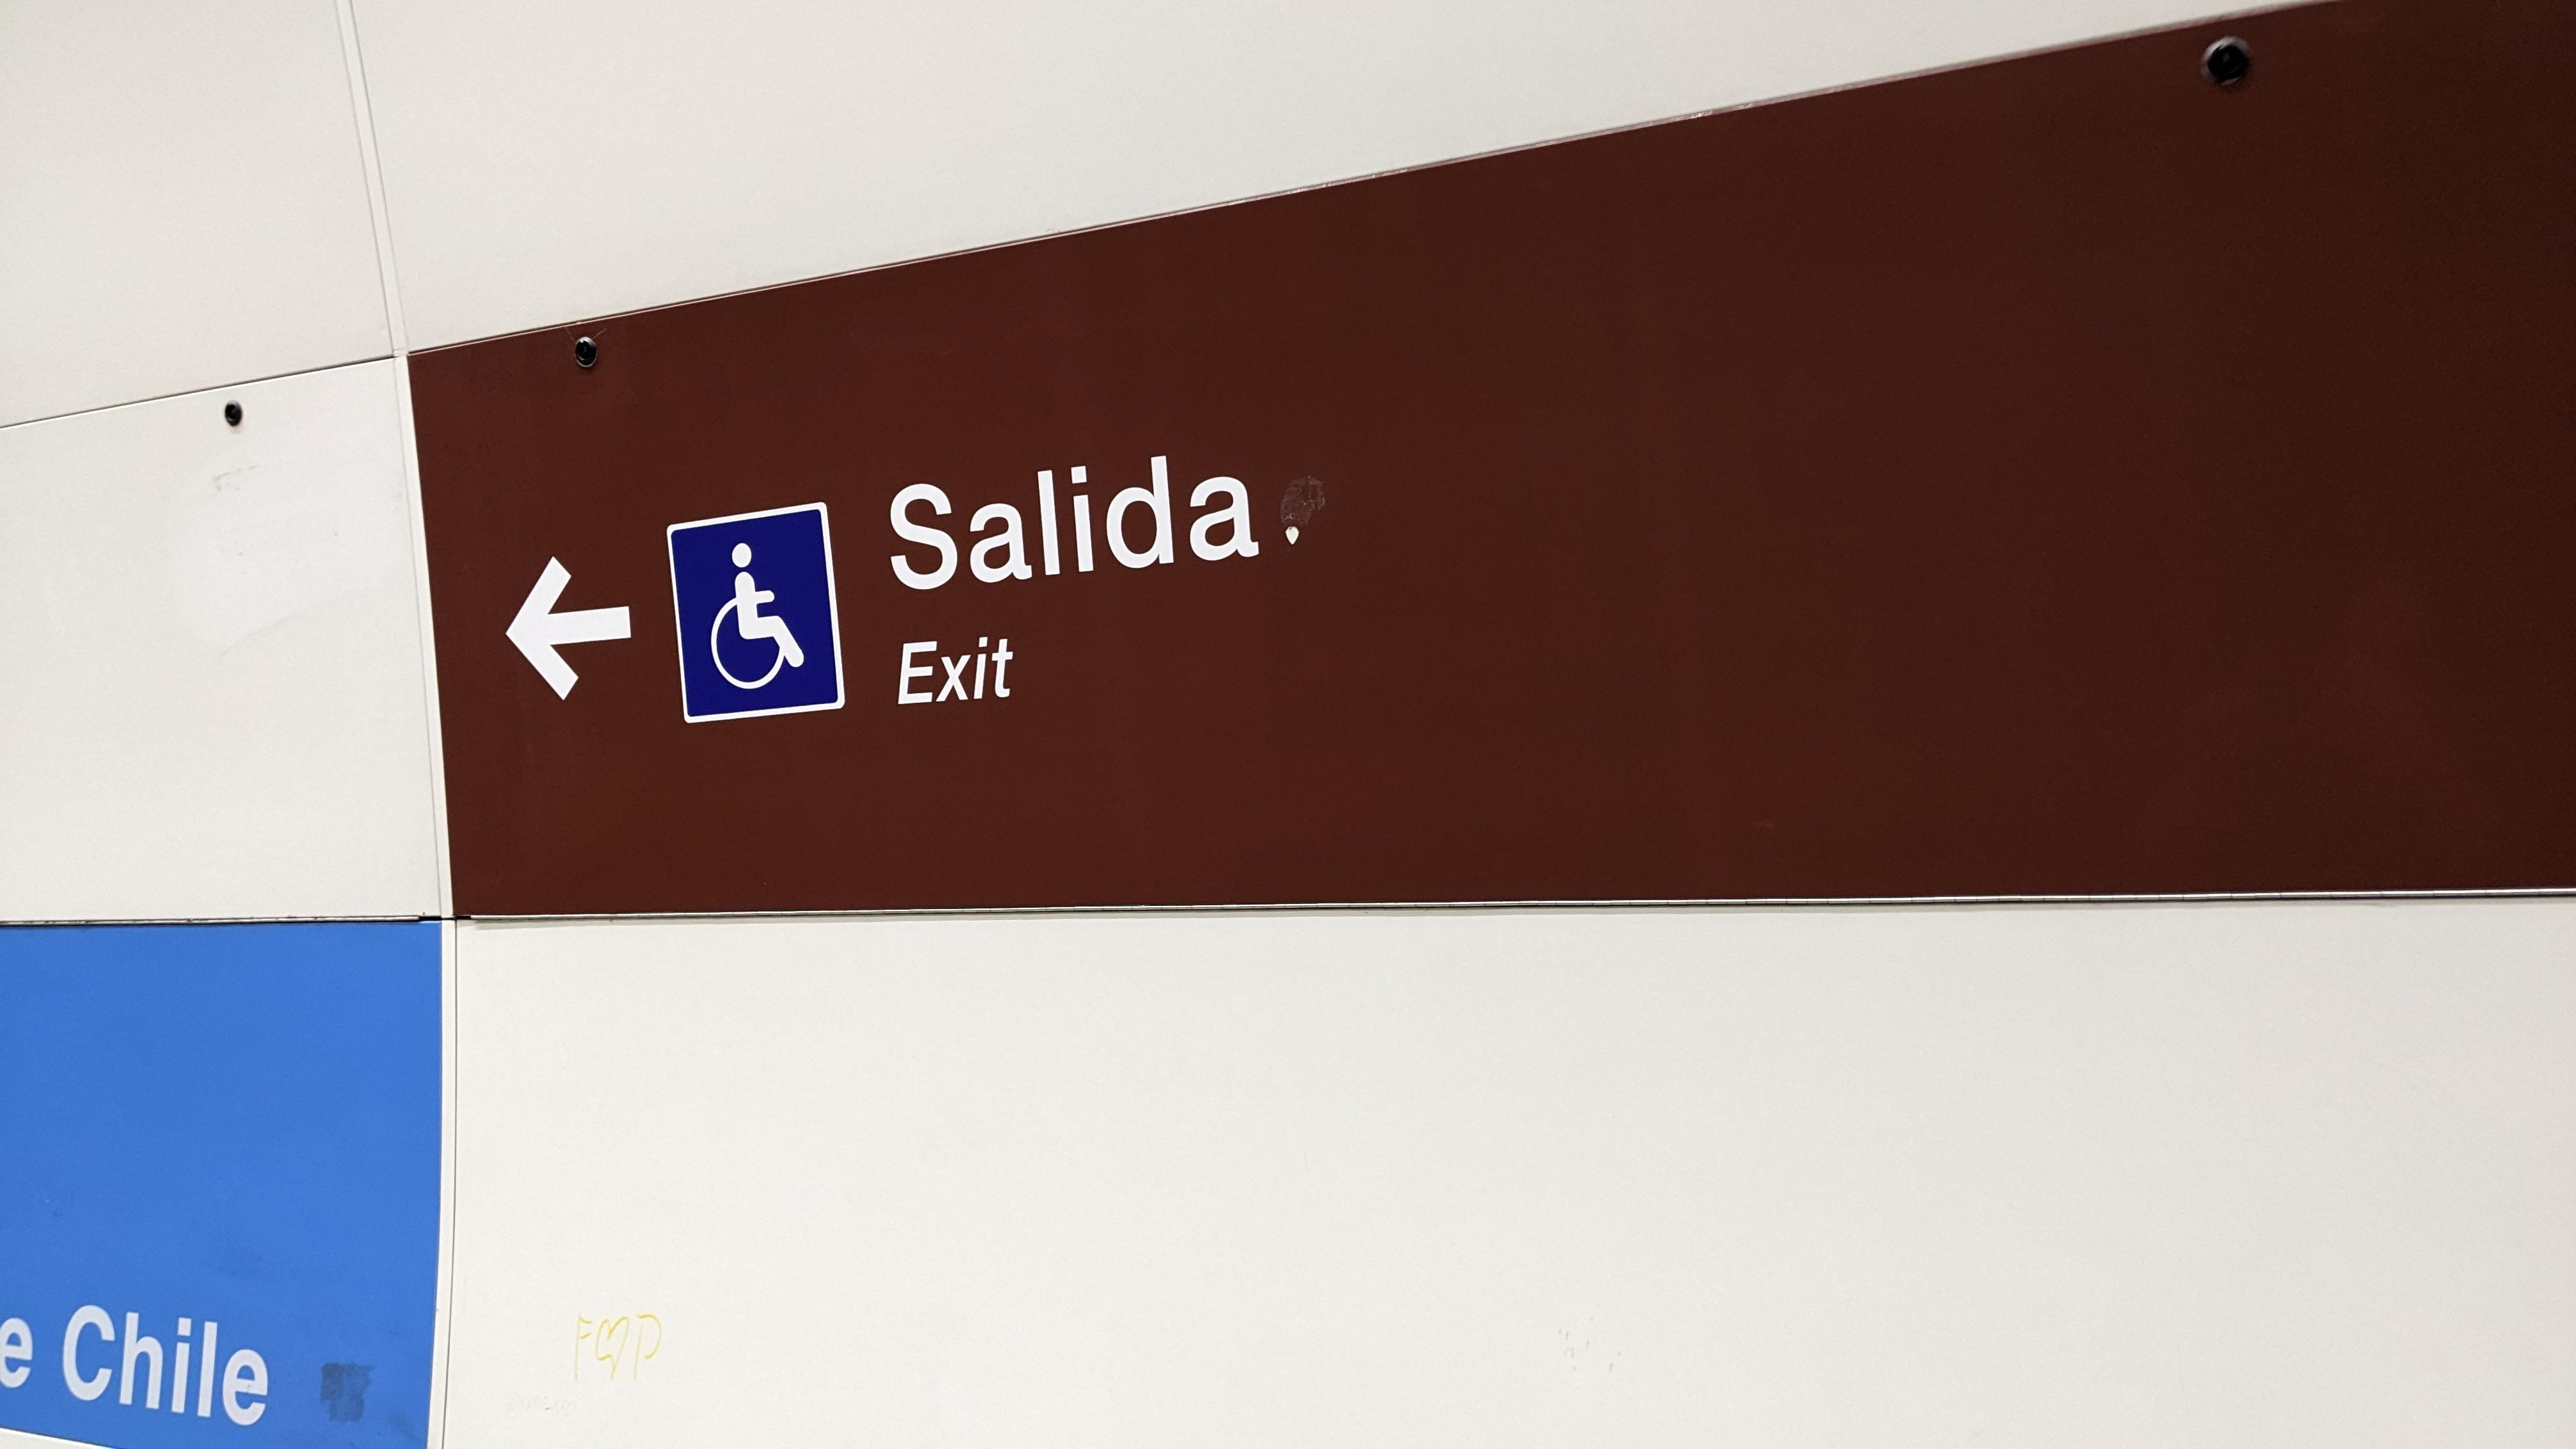handicapped symbol: (706, 534, 809, 694)
left arrow: (501, 547, 642, 708)
